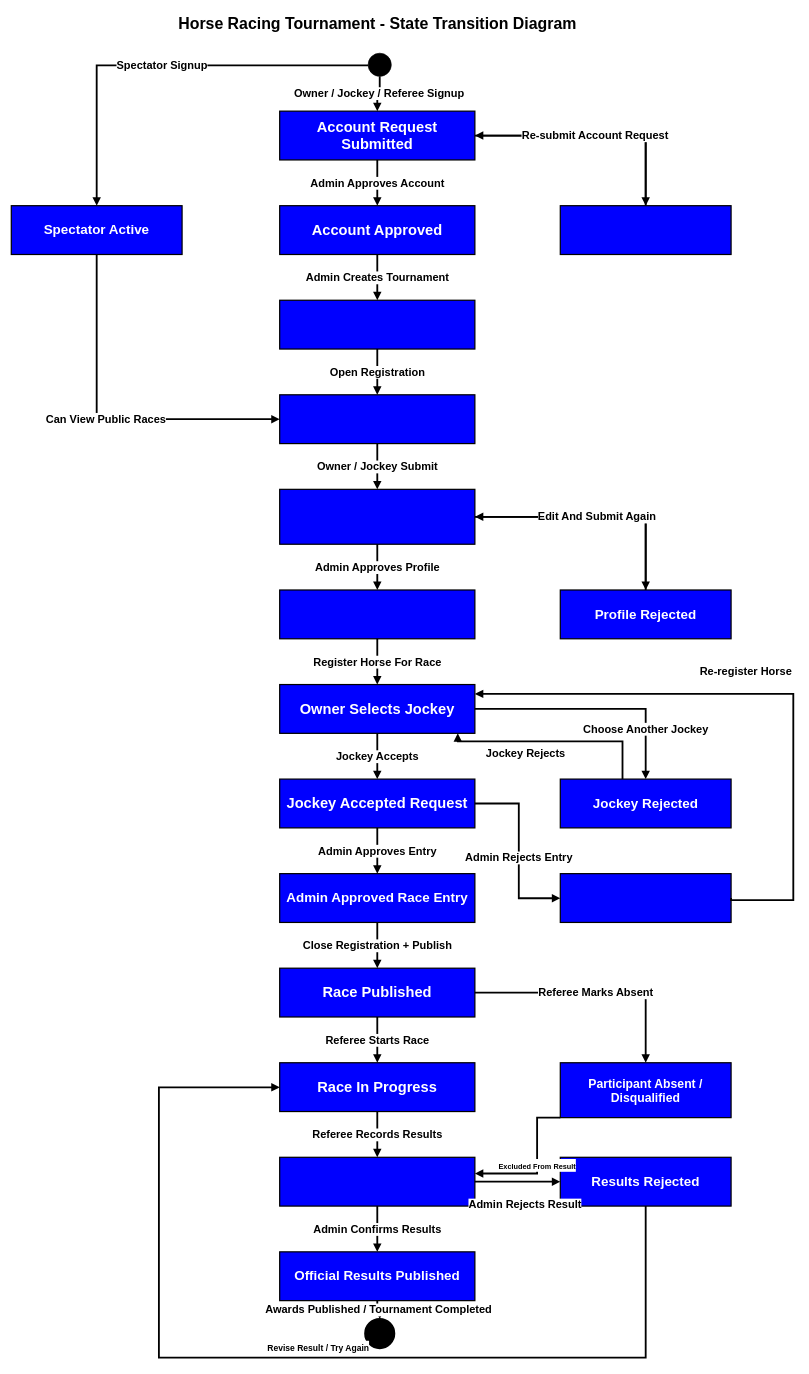
Some shapes in this 809 by 1374 pixel diagram are drawn without their labels. Here are the shapes that lost their labels. From the top down, the centre of each, then its label:
At pixel 645 230: "Account Rejected".
At pixel 377 324: "Tournament Created".
At pixel 377 419: "Registration Open".
At pixel 377 516: "Horse / Jockey Profile Submitted".
At pixel 377 614: "Profile Approved".
At pixel 645 898: "Entry Rejected".
At pixel 377 1181: "Results Submitted".
